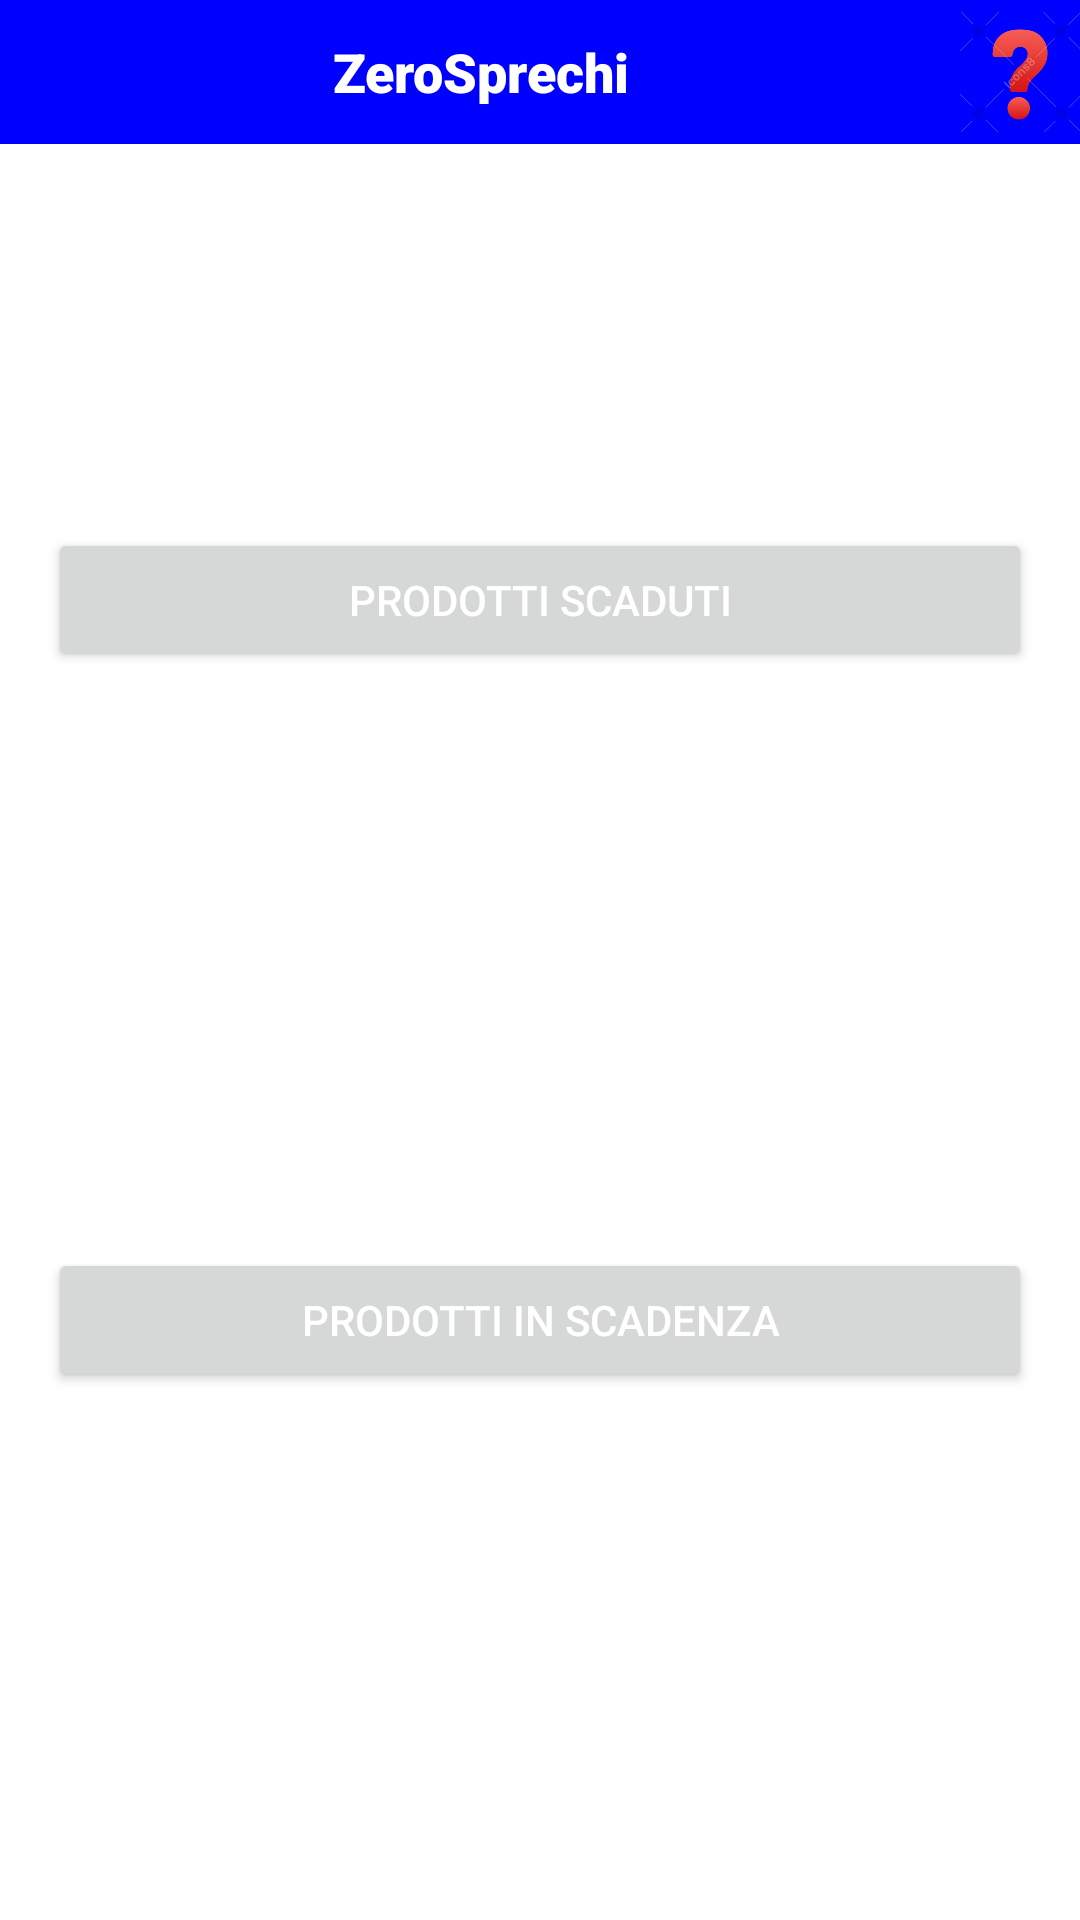

Screen size 1080px×1920px. Icon name, then its box in pixels as (x1, y1, x2, y2):
help: (960, 12, 1080, 132)
